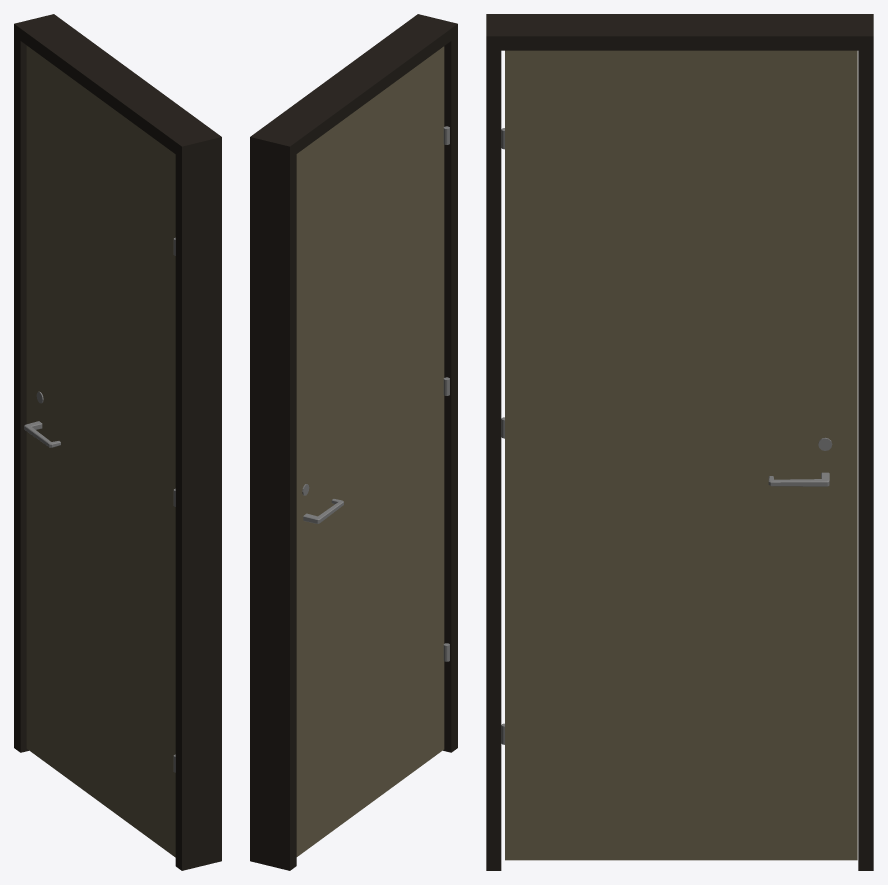
The model's file is single_door.glb.
3 renders of one model, left to right at view 1: azimuth 30°, elevation 25°; view 2: azimuth 150°, elevation 25°; view 3: azimuth 270°, elevation 25°, orthographic. The views are drawn at different scales.
Visible parts, largest first — view 1: door.001, frame; view 2: door.001, frame; view 3: door.001, frame.
Part boxes in pixels (x1=…): door.001: x1=26, y1=45, x2=175, y2=857; frame: x1=14, y1=14, x2=221, y2=870; door.001: x1=296, y1=46, x2=444, y2=856; frame: x1=250, y1=14, x2=457, y2=870; door.001: x1=505, y1=50, x2=857, y2=860; frame: x1=486, y1=14, x2=873, y2=870.
Size of the model in its own units: 0.188 by 2.47 by 1.04.
